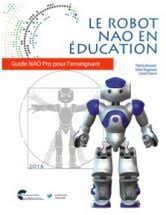nao: (78, 73, 159, 214)
